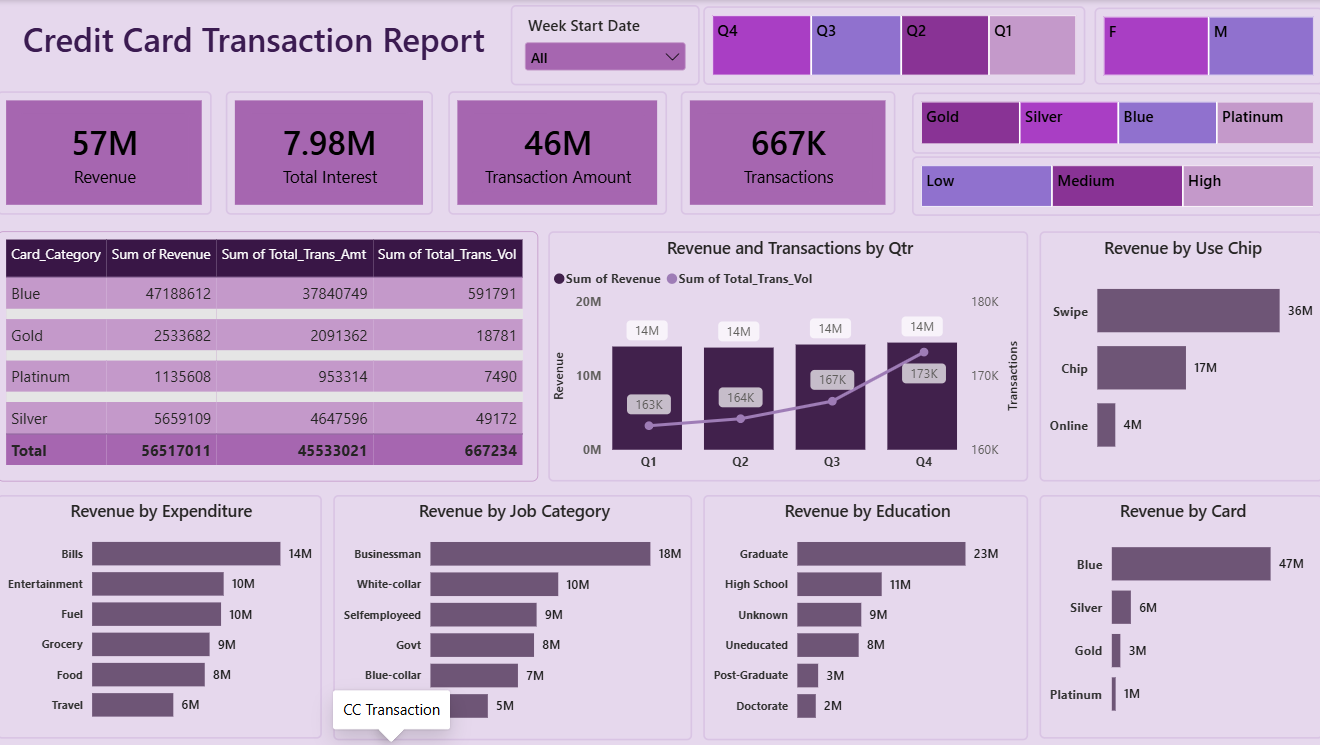

The page's visual inventory and layout, read from the dashboard file:
{"tool":"powerbi","page":{"name":"CC Transaction","canvas":[1280,720],"ordinal":1},"visuals":[{"type":"textbox","box":[0,10.9,495.8,65.1],"z":0},{"type":"lineStackedColumnComboChart","title":"Revenue and Transactions by Qtr","fields":{"Category":["credit_card_db cc_detail.Qtr"],"Y":["Sum(credit_card_db cc_detail.Revenue)"],"Y2":["Sum(credit_card_db cc_detail.Total_Trans_Vol)"]},"box":[532,223.2,463.3,241.3],"z":1000},{"type":"clusteredBarChart","title":"Revenue by Expenditure","fields":{"Category":["credit_card_db cc_detail.Exp_Type"],"Y":["Sum(credit_card_db cc_detail.Revenue)"]},"box":[0,477.8,313.7,235.3],"z":2000},{"type":"clusteredBarChart","title":"Revenue by Job Category","fields":{"Category":["credit_card_db cust_detail.Customer_Job"],"Y":["Sum(credit_card_db cc_detail.Revenue)"]},"box":[324.5,477.8,346.2,236.5],"z":3000},{"type":"clusteredBarChart","title":"Revenue by Education","fields":{"Category":["credit_card_db cust_detail.Education_Level"],"Y":["Sum(credit_card_db cc_detail.Revenue)"]},"box":[681.6,477.8,313.7,236.5],"z":4000},{"type":"clusteredBarChart","title":"Revenue by Card","fields":{"Category":["credit_card_db cc_detail.Card_Category"],"Y":["Sum(credit_card_db cc_detail.Revenue)"]},"box":[1006.1,477.8,273.9,235.3],"z":5000},{"type":"clusteredBarChart","title":"Revenue by Use Chip","fields":{"Category":["credit_card_db cc_detail.Use_Chip"],"Y":["Sum(credit_card_db cc_detail.Revenue)"]},"box":[1006.2,223.2,273.9,241.3],"z":6000},{"type":"tableEx","fields":{"Values":["credit_card_db cc_detail.Card_Category","Sum(credit_card_db cc_detail.Revenue)","Sum(credit_card_db cc_detail.Total_Trans_Amt)","Sum(credit_card_db cc_detail.Total_Trans_Vol)"]},"box":[0,223.2,522.4,241.3],"z":7000},{"type":"cardVisual","fields":{"Data":["Sum(credit_card_db cc_detail.Revenue)"]},"box":[0,88.1,207.5,119.4],"z":8000},{"type":"cardVisual","fields":{"Data":["Sum(credit_card_db cc_detail.Interest_Earned)"]},"box":[221.2,88.1,200.3,119.4],"z":9000},{"type":"cardVisual","fields":{"Data":["Sum(credit_card_db cc_detail.Total_Trans_Vol)"]},"box":[659.9,88.3,207.5,119.4],"z":10000},{"type":"cardVisual","fields":{"Data":["Sum(credit_card_db cc_detail.Total_Trans_Amt)"]},"box":[435.1,88.1,211.1,119.4],"z":11000},{"type":"slicer","fields":{"Values":["credit_card_db cc_detail.Week_Start_Date"]},"box":[495.8,4.8,182.2,77.2],"z":12000},{"type":"treemap","fields":{"Group":["credit_card_db cc_detail.Qtr"],"Values":["Avg(credit_card_db cc_detail.Client_Num)"]},"box":[681.6,6,369.2,76],"z":13000},{"type":"treemap","fields":{"Group":["credit_card_db cust_detail.Gender"],"Values":["Avg(credit_card_db cc_detail.Client_Num)"]},"box":[1059.3,7.2,220.8,74.8],"z":14000},{"type":"treemap","fields":{"Group":["credit_card_db cc_detail.Card_Category"],"Values":["Avg(credit_card_db cc_detail.Client_Num)"]},"box":[883.1,89.3,396.9,59.1],"z":15000},{"type":"treemap","fields":{"Group":["credit_card_db cust_detail.IncomeCategory"],"Values":["Avg(credit_card_db cc_detail.Client_Num)"]},"box":[883.1,150.8,396.9,57.9],"z":16000}]}

Visuals, with their boxes in screenshot pixels (x1, y1, x2, y2), scaled from the page's 1280x720 canvas onto the 1320x745 screenshot:
textbox: Rect(0, 11, 511, 79)
"Revenue and Transactions by Qtr" lineStackedColumnComboChart: Rect(549, 231, 1026, 481)
"Revenue by Expenditure" clusteredBarChart: Rect(0, 494, 324, 738)
"Revenue by Job Category" clusteredBarChart: Rect(335, 494, 692, 739)
"Revenue by Education" clusteredBarChart: Rect(703, 494, 1026, 739)
"Revenue by Card" clusteredBarChart: Rect(1038, 494, 1319, 738)
"Revenue by Use Chip" clusteredBarChart: Rect(1038, 231, 1319, 481)
tableEx - credit_card_db cc_detail.Card_Category x Sum(credit_card_db cc_detail.Revenue): Rect(0, 231, 539, 481)
cardVisual - Sum(credit_card_db cc_detail.Revenue): Rect(0, 91, 214, 215)
cardVisual - Sum(credit_card_db cc_detail.Interest_Earned): Rect(228, 91, 435, 215)
cardVisual - Sum(credit_card_db cc_detail.Total_Trans_Vol): Rect(681, 91, 895, 215)
cardVisual - Sum(credit_card_db cc_detail.Total_Trans_Amt): Rect(449, 91, 666, 215)
slicer - credit_card_db cc_detail.Week_Start_Date: Rect(511, 5, 699, 85)
treemap - credit_card_db cc_detail.Qtr x Avg(credit_card_db cc_detail.Client_Num): Rect(703, 6, 1084, 85)
treemap - credit_card_db cust_detail.Gender x Avg(credit_card_db cc_detail.Client_Num): Rect(1092, 7, 1319, 85)
treemap - credit_card_db cc_detail.Card_Category x Avg(credit_card_db cc_detail.Client_Num): Rect(911, 92, 1319, 154)
treemap - credit_card_db cust_detail.IncomeCategory x Avg(credit_card_db cc_detail.Client_Num): Rect(911, 156, 1319, 216)
